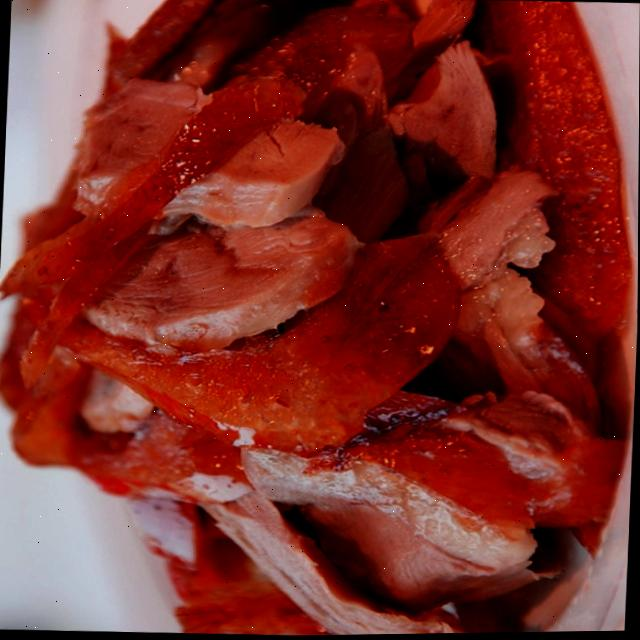烧串烤肉: (0, 1, 634, 640)
